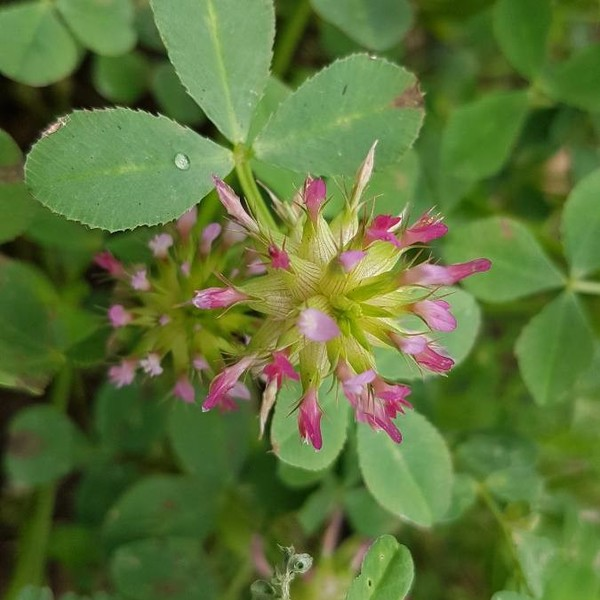obstacle: (54, 16, 472, 530)
